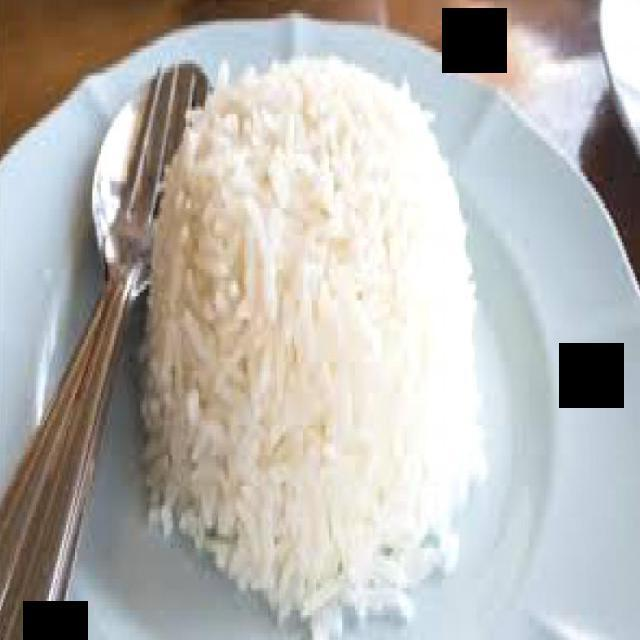Chicken -Chicken Inasal-: (139, 58, 465, 606)
